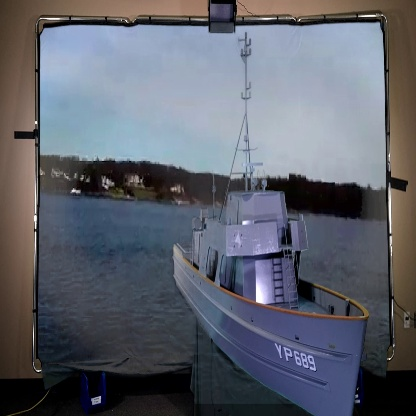YP689: (171, 35, 368, 416)
